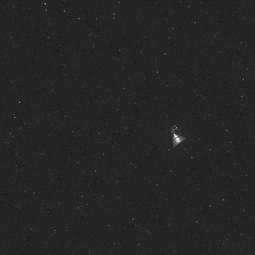debris: (164, 118, 190, 154)
